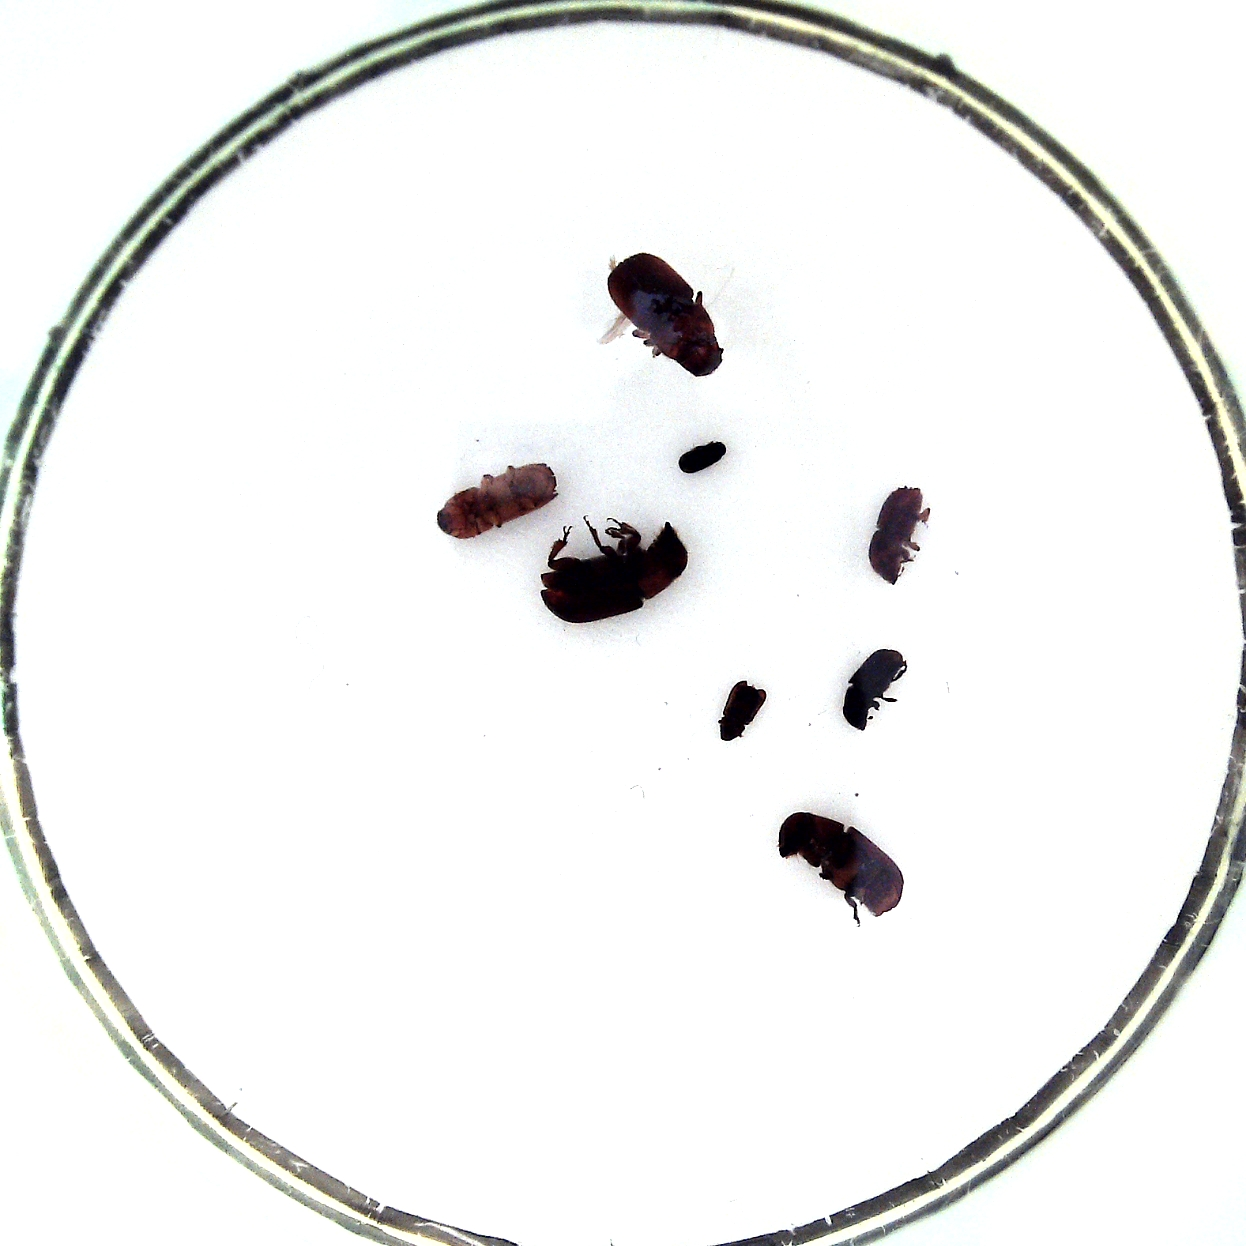Boerner: (436, 462, 559, 539)
Leconte: (541, 521, 688, 624), (609, 253, 722, 380), (779, 814, 904, 916)
acuminatus: (678, 440, 727, 474)
armandi: (842, 648, 905, 730)
coleoptera: (720, 682, 766, 742)
linnaeus: (868, 485, 921, 584)
